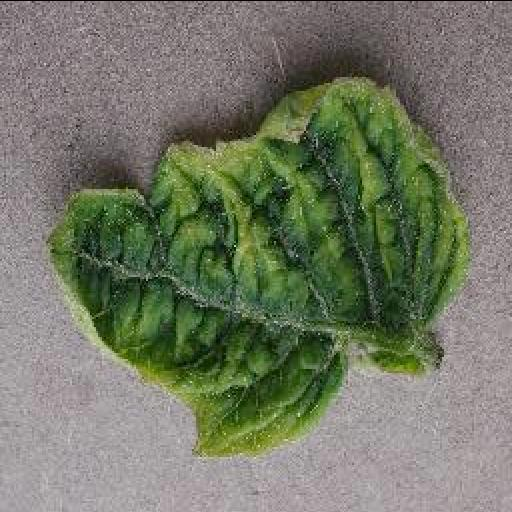disease_tomato: (44, 78, 470, 456)
